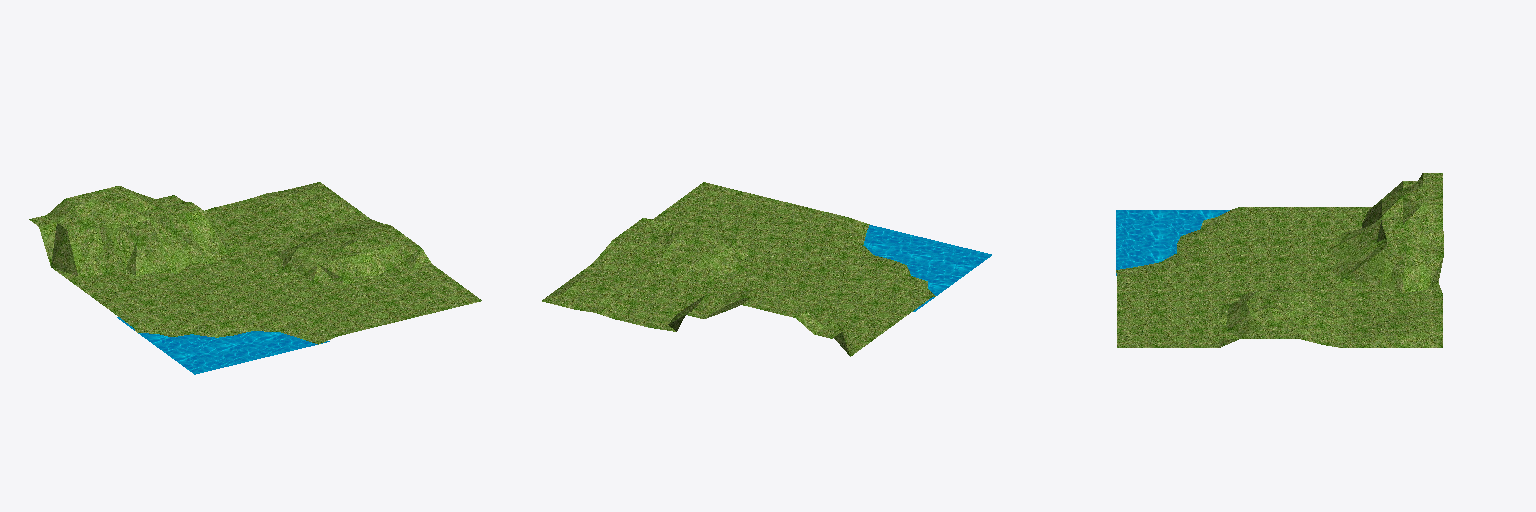
The picture shows the model from 3 angles: view 1: azimuth 30°, elevation 25°; view 2: azimuth 150°, elevation 25°; view 3: azimuth 270°, elevation 25°; orthographic projection.
Parts seen in each view (by area): view 1: rectangle1, rectangle2; view 2: rectangle1, rectangle2; view 3: rectangle1, rectangle2.
Part boxes in pixels (x1,y1,x2,y2): rectangle1: (29, 182, 481, 344); rectangle2: (117, 317, 329, 374); rectangle1: (542, 182, 935, 356); rectangle2: (863, 225, 991, 311); rectangle1: (1116, 173, 1443, 347); rectangle2: (1116, 210, 1229, 275).
Bounding box in the file's own units: 38.75 × 6.15 × 37.82.
2 materials, 2 textured.